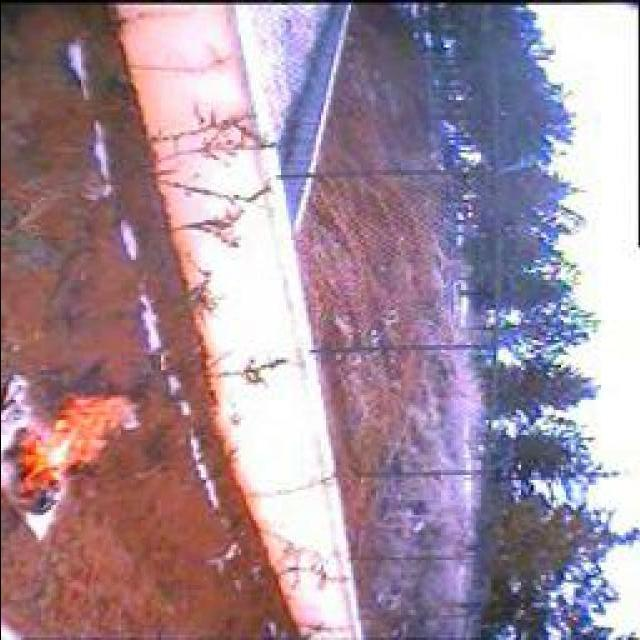Fire: (0, 394, 145, 513)
